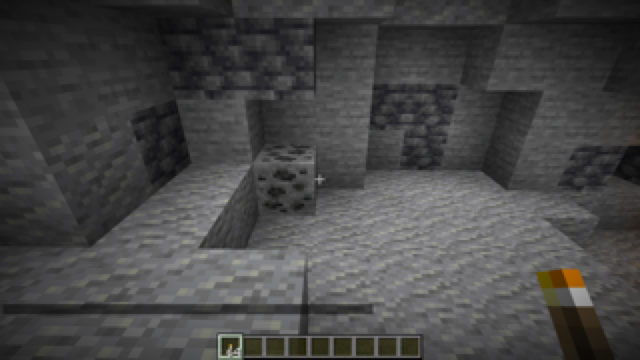coal: (254, 141, 317, 214)
